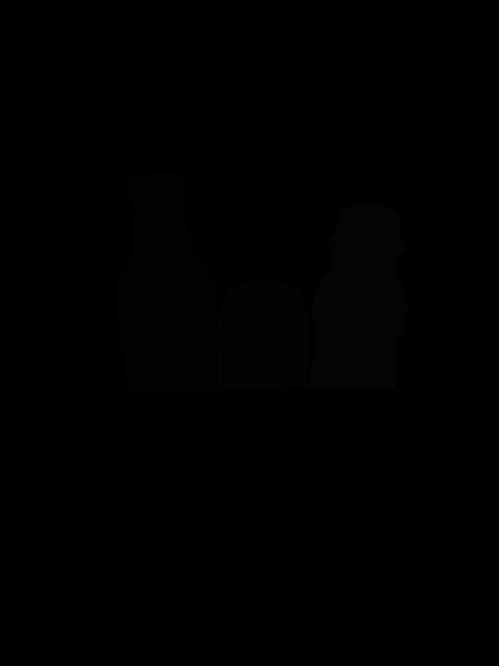can: (211, 275, 315, 393)
carton: (43, 384, 450, 553)
milk_bottle: (309, 200, 410, 392)
water_bottle: (113, 169, 224, 397)
